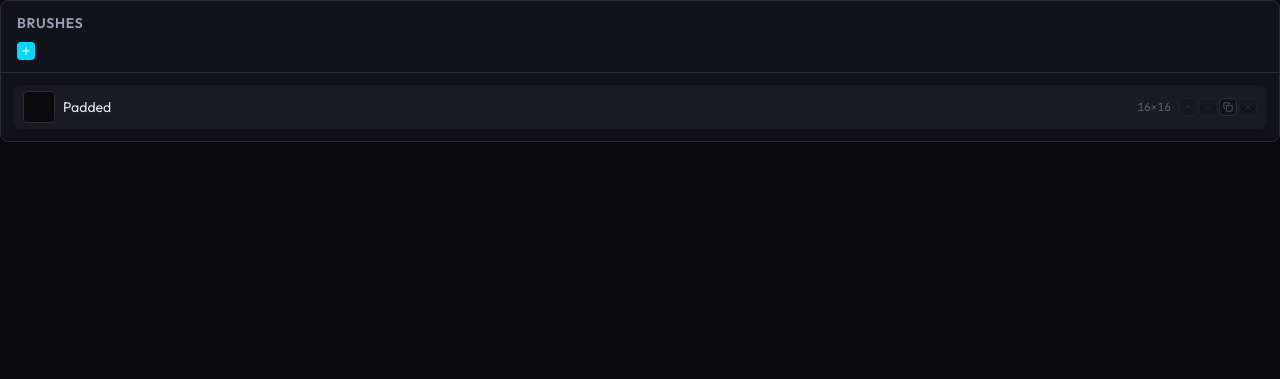
Test case: BrushList — the local name rule (not the file-name rule) › compares against the rows' TRIMMED names
Click the button named "New brush" at {"x": 26, "y": 51}, box [17, 42, 35, 60]
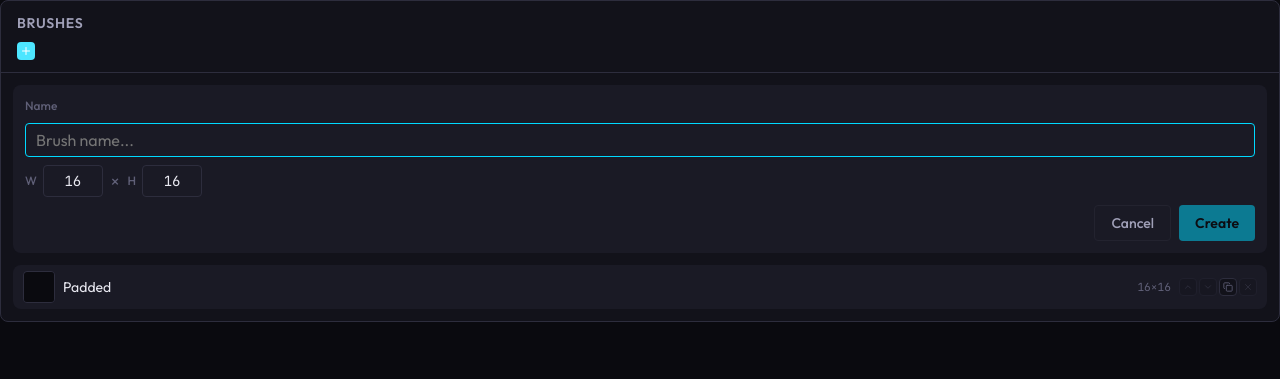
Type "Padded" into the field labelled "Name" at {"x": 640, "y": 140}, box [25, 123, 1255, 157]
Then press Enter
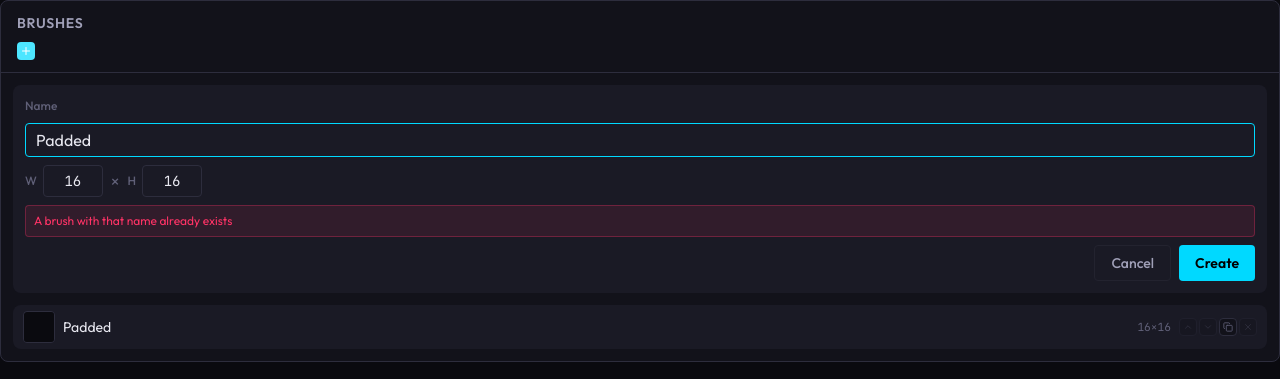
Check: the message shows "already exists", box [34, 213, 232, 228]
